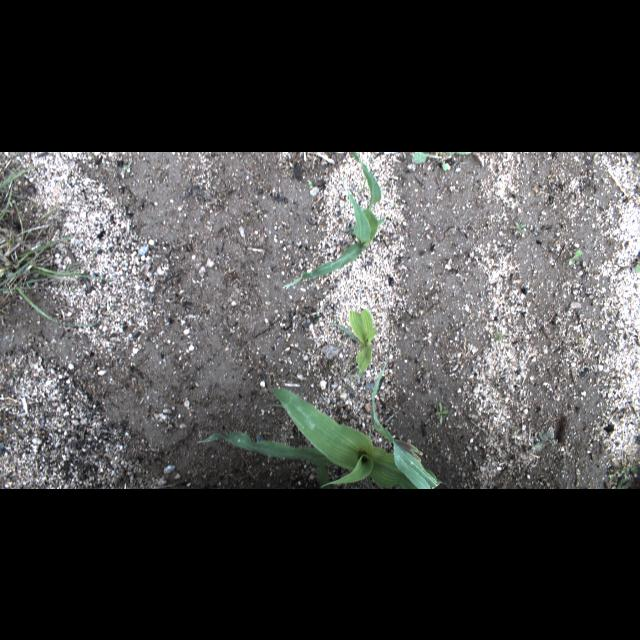crop: (205, 359, 441, 487), (283, 151, 387, 287), (346, 306, 379, 376)
weed: (1, 176, 103, 328), (408, 151, 468, 173), (531, 429, 551, 449), (434, 401, 450, 425), (567, 248, 581, 264), (515, 220, 525, 233), (123, 161, 133, 173), (307, 180, 313, 188), (392, 202, 396, 206)
